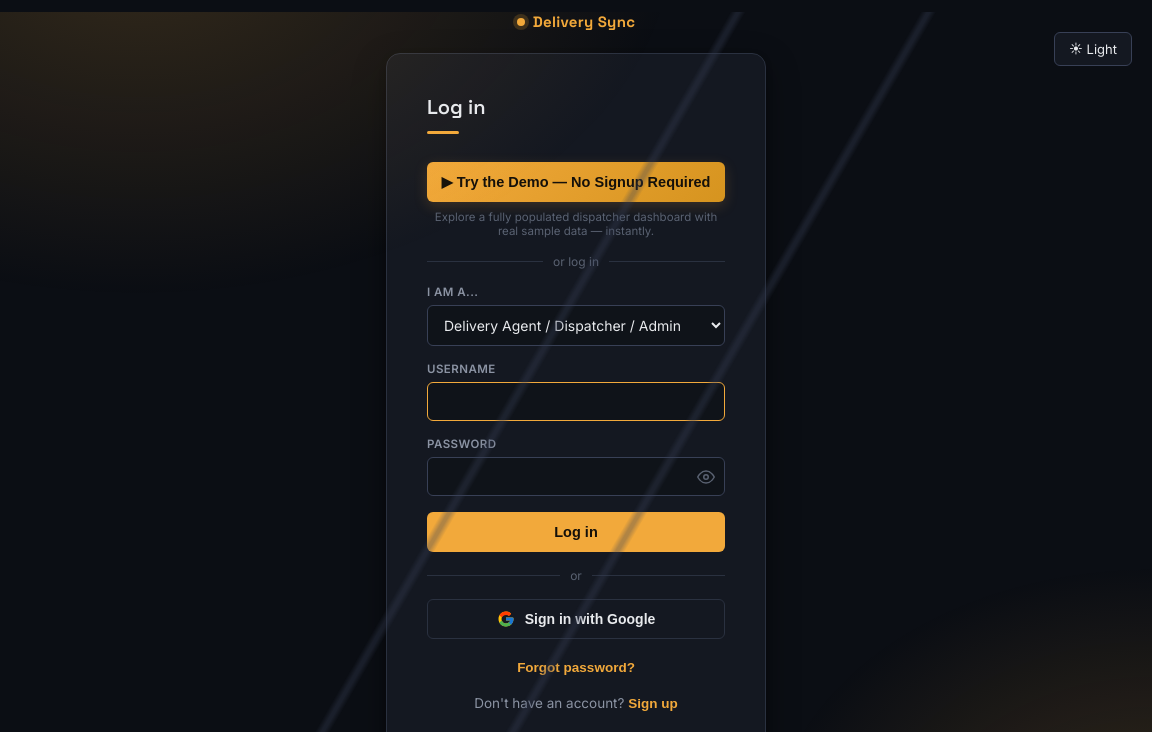
Test: LoginPage › switches the identifier field label between Username (staff) and Email (customer)
Check: the field labelled "Username" is shown, box left=427, top=382, right=725, bottom=421
Select "Customer (Track My Orders)" in the dropdown at (576, 326), box left=427, top=305, right=725, bottom=346
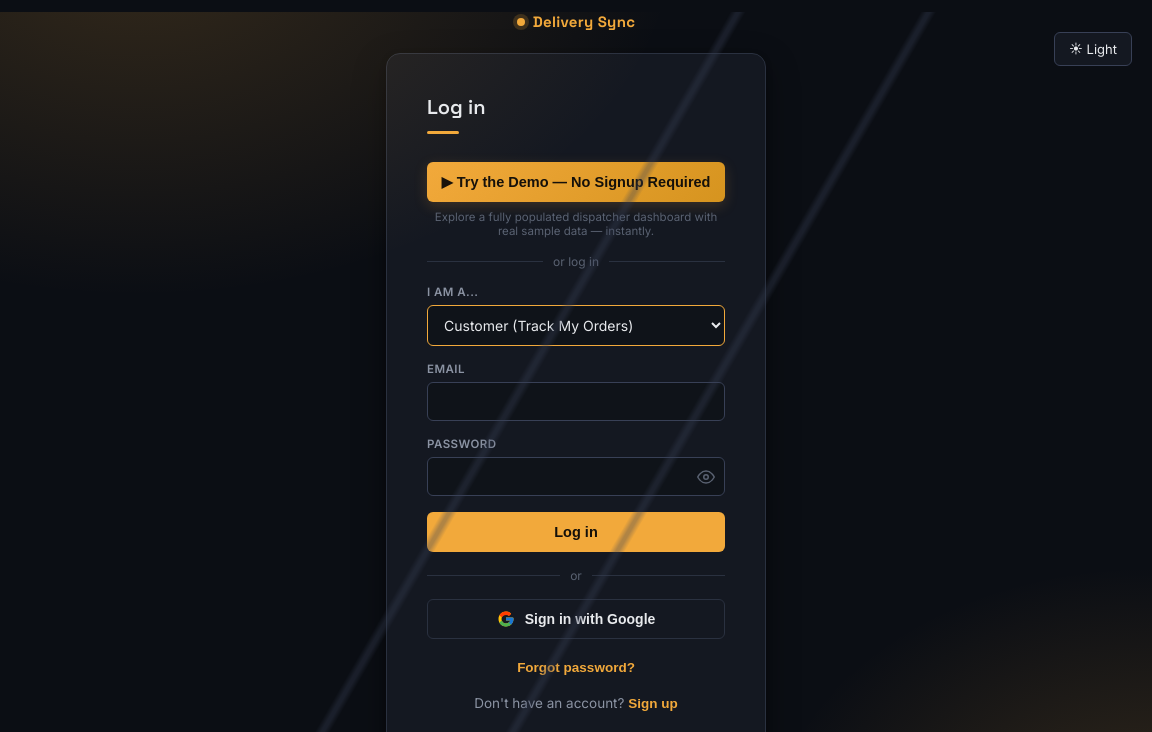
Check: the field labelled "Email" is shown, box left=427, top=382, right=725, bottom=421
